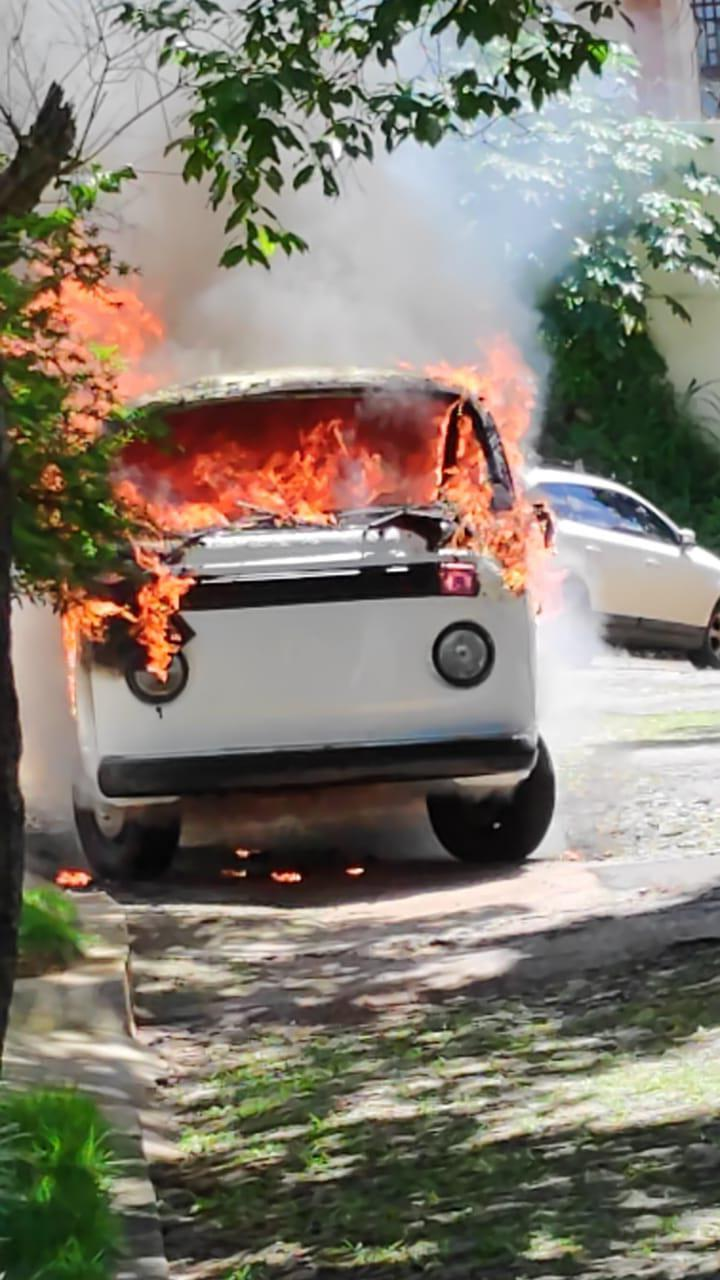Fire: (115, 332, 540, 594), (4, 241, 165, 414), (55, 556, 189, 690), (55, 871, 93, 887), (268, 872, 303, 882)
